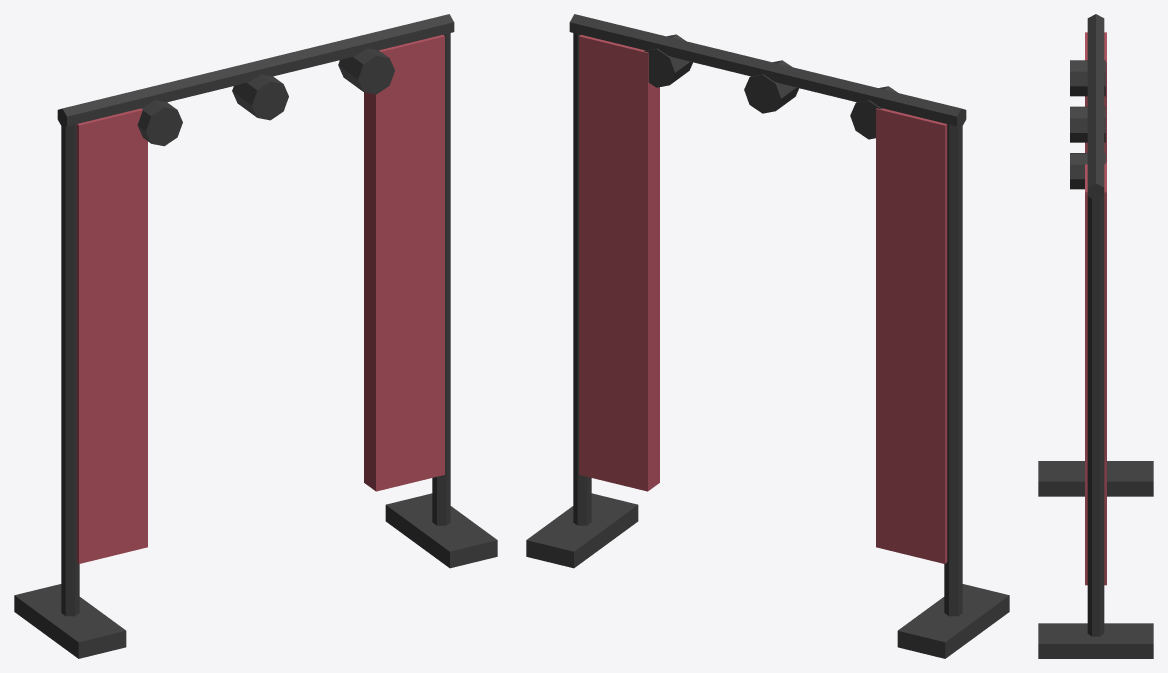
The picture shows the model from 3 angles, left to right: view 1: azimuth 30°, elevation 25°; view 2: azimuth 150°, elevation 25°; view 3: azimuth 270°, elevation 25°; orthographic projection. The views are drawn at different scales.
Visible parts, largest first — view 1: Stage drape.002, Stage drape, Stage drape.003, Stage drape.001, Curtain frame, Curtain beam, Stage frame foot.001, Stage frame foot, Curtain frame.001, Stage lamp.002, Stage lamp.001, Stage lamp; view 2: Stage drape.002, Stage drape, Stage drape.003, Stage drape.001, Curtain frame, Curtain beam, Stage frame foot.001, Stage frame foot, Curtain frame.001, Stage lamp.001, Stage lamp.002, Stage lamp; view 3: Curtain frame.001, Stage frame foot.001, Stage frame foot, Curtain beam, Stage drape.003, Stage lamp, Stage lamp.001, Stage lamp.002, Stage drape.001.
Part boxes in pixels (box(x1,y1,x2,y2)): Stage drape.002: box(364, 42, 413, 491); Stage drape: box(76, 115, 116, 563); Stage drape.003: box(408, 35, 444, 483); Stage drape.001: box(109, 108, 147, 554); Curtain frame: box(61, 124, 79, 616); Curtain beam: box(57, 14, 454, 127); Stage frame foot.001: box(385, 493, 497, 568); Stage frame foot: box(14, 584, 126, 658); Curtain frame.001: box(432, 33, 450, 525); Stage lamp.002: box(338, 48, 394, 94); Stage lamp.001: box(232, 74, 288, 120); Stage lamp: box(137, 100, 182, 146); Stage drape.002: box(610, 42, 659, 491); Stage drape: box(907, 115, 947, 563); Stage drape.003: box(579, 35, 617, 483); Stage drape.001: box(876, 108, 913, 554); Curtain frame: box(944, 124, 962, 616); Curtain beam: box(569, 14, 966, 127); Stage frame foot.001: box(526, 493, 638, 568); Stage frame foot: box(897, 584, 1009, 658); Curtain frame.001: box(573, 33, 591, 525); Stage lamp.001: box(744, 60, 798, 113); Stage lamp.002: box(644, 34, 692, 87); Stage lamp: box(850, 86, 897, 139); Curtain frame.001: box(1087, 196, 1104, 636); Stage frame foot.001: box(1038, 623, 1153, 658); Stage frame foot: box(1038, 461, 1153, 496); Curtain beam: box(1087, 14, 1104, 200); Stage drape.003: box(1085, 176, 1106, 585); Stage lamp: box(1070, 60, 1105, 96); Stage lamp.001: box(1070, 106, 1105, 142); Stage lamp.002: box(1070, 153, 1105, 189); Stage drape.001: box(1085, 46, 1106, 162).
Bounding box in the file's own units: 1.58 × 1.89 × 0.42.
1 material, 1 textured.
